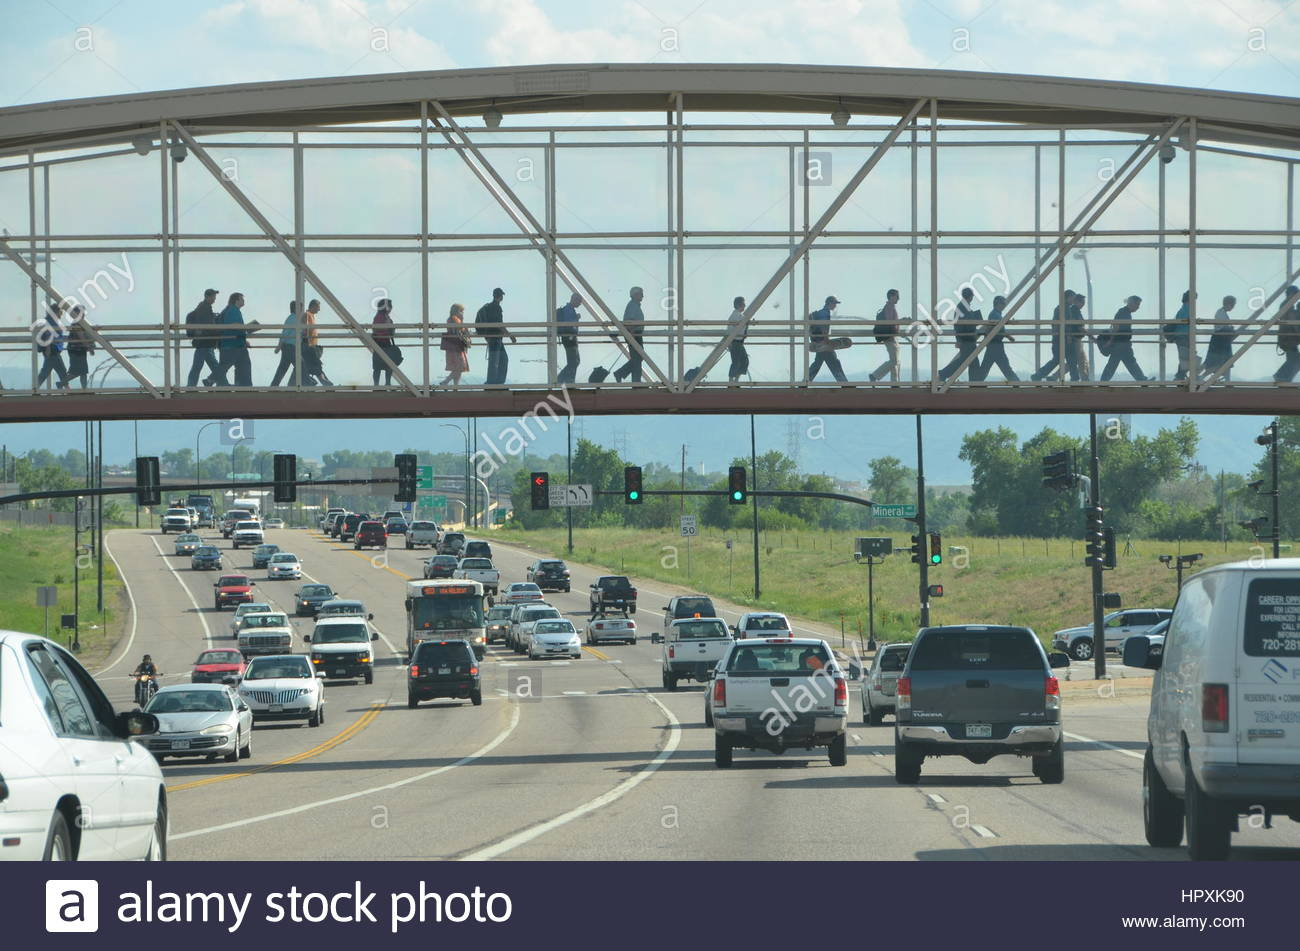bridge: (1, 61, 1300, 421)
